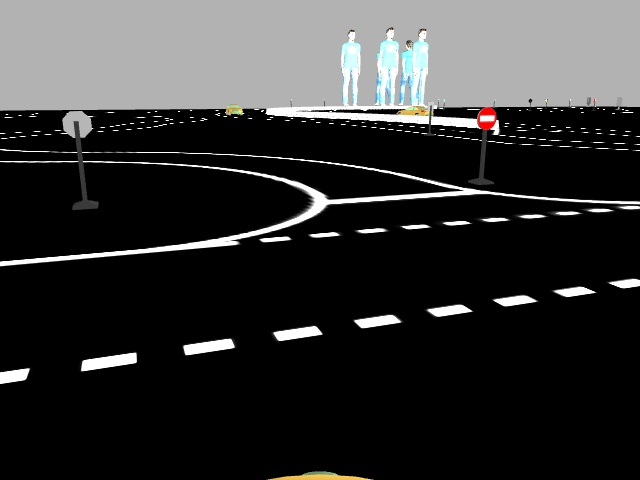NoEntry: (475, 106, 497, 130)
